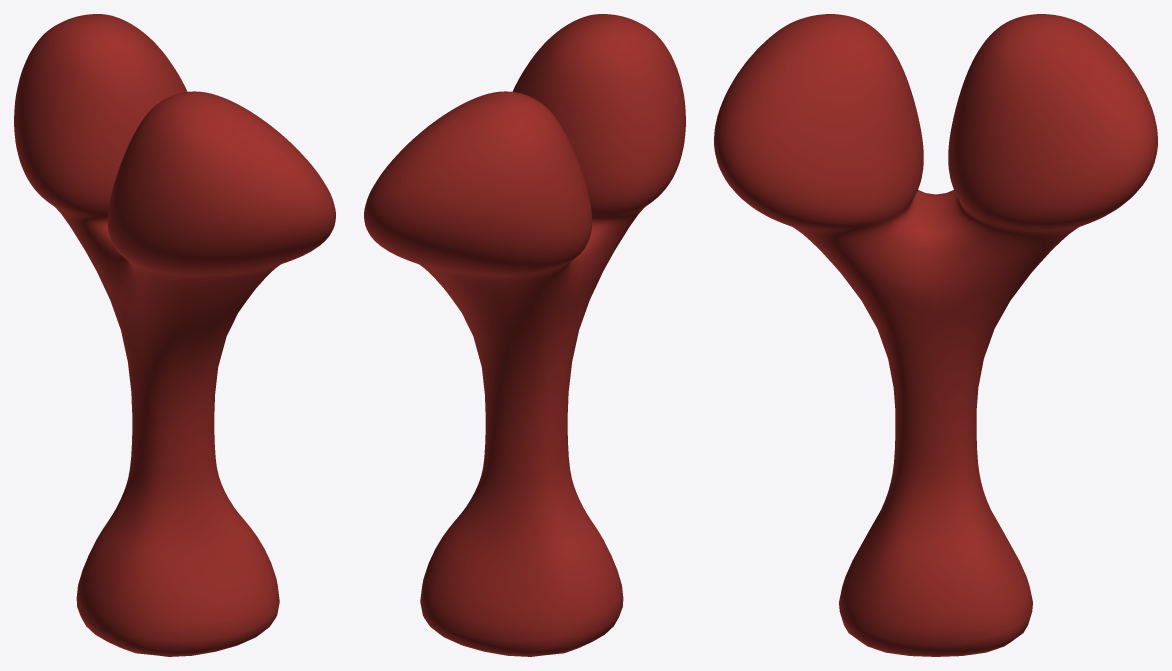
Rendered from Tower.fbx.
The picture shows the model from 3 angles, left to right: view 1: azimuth 30°, elevation 25°; view 2: azimuth 150°, elevation 25°; view 3: azimuth 270°, elevation 25°; orthographic projection. The views are drawn at different scales.
Parts seen in each view (by area): view 1: Cube.026; view 2: Cube.026; view 3: Cube.026.
Boxes of the visible parts, left/top/right/bottom form: Cube.026: left=14, top=14, right=335, bottom=656; Cube.026: left=364, top=14, right=685, bottom=656; Cube.026: left=714, top=14, right=1157, bottom=656.
Bounding box in the file's own units: 613 × 1779 × 1203.
